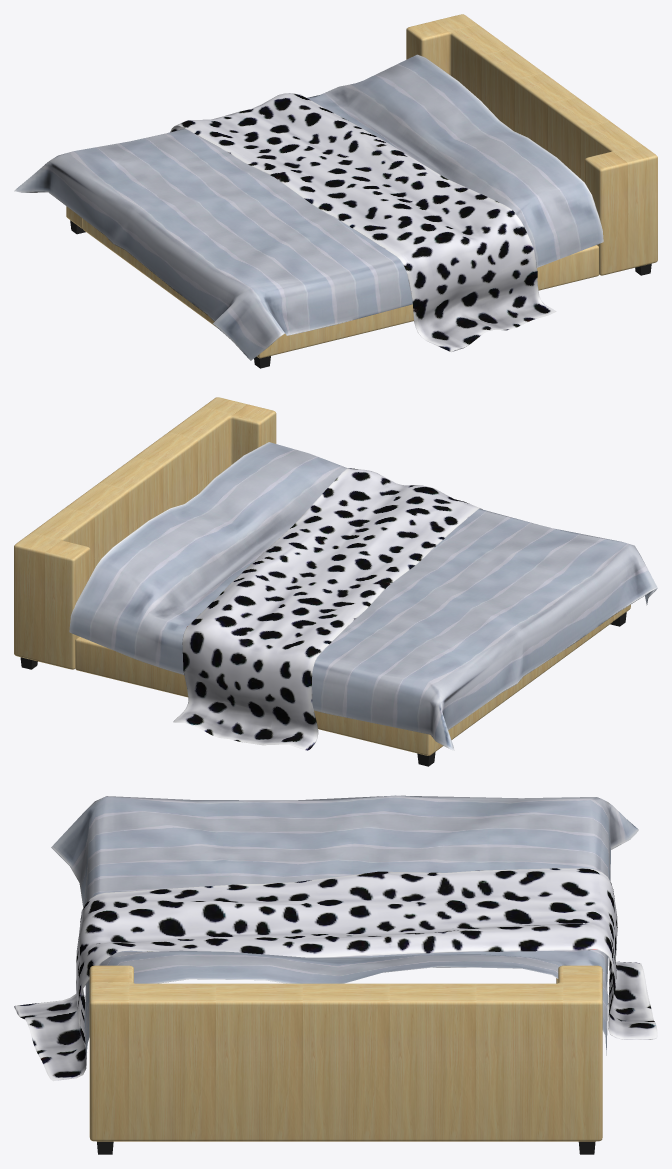
File: Bed01.FBX
3 views of the same model, one above another, from view 1: azimuth 30°, elevation 25°; view 2: azimuth 150°, elevation 25°; view 3: azimuth 270°, elevation 25° (orthographic). The views are drawn at different scales.
Visible parts, largest first — view 1: Bed01; view 2: Bed01; view 3: Bed01.
Part boxes in pixels (left/top/right/bottom): Bed01: left=14, top=14, right=657, bottom=368; Bed01: left=14, top=397, right=657, bottom=766; Bed01: left=14, top=795, right=657, bottom=1154.
Size of the model in its own units: 240 by 233 by 62.25.
